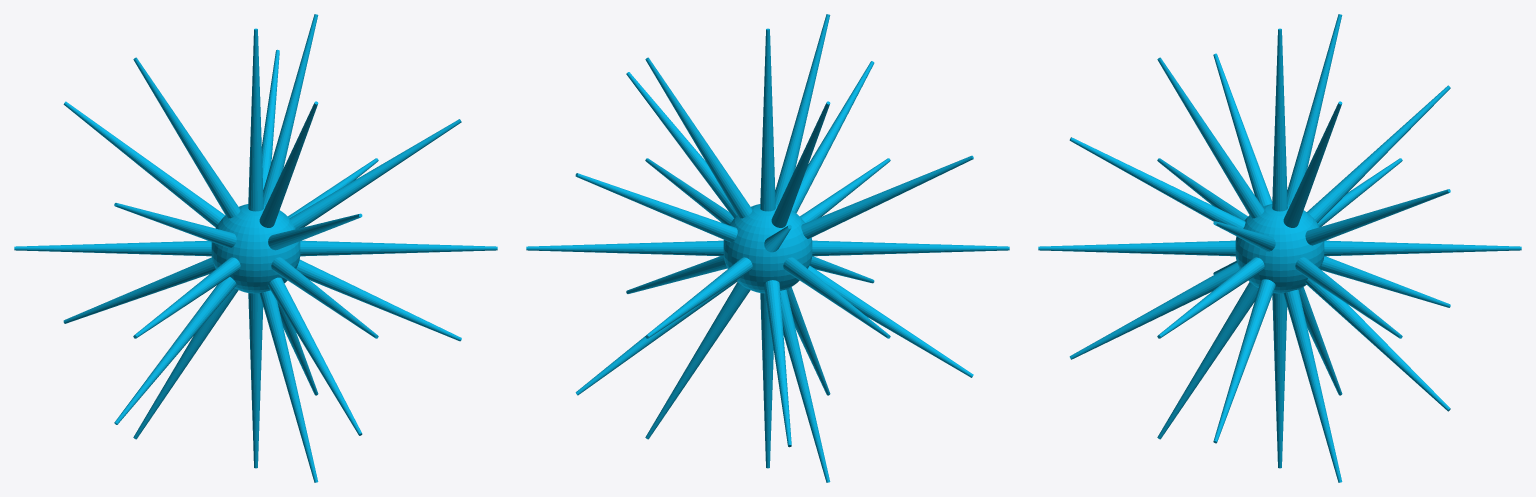
Rendered from coike-fullcast.glb.
3 views of the same model, side by side, from view 1: azimuth 30°, elevation 25°; view 2: azimuth 150°, elevation 25°; view 3: azimuth 270°, elevation 25° (orthographic).
Parts seen in each view (by area): view 1: coike-fullcast; view 2: coike-fullcast; view 3: coike-fullcast.
Boxes of the visible parts, left/top/right/bottom form: coike-fullcast: left=14, top=14, right=497, bottom=482; coike-fullcast: left=526, top=14, right=1009, bottom=482; coike-fullcast: left=1038, top=14, right=1521, bottom=482.
Bounding box in the file's own units: 107 × 123 × 123.
